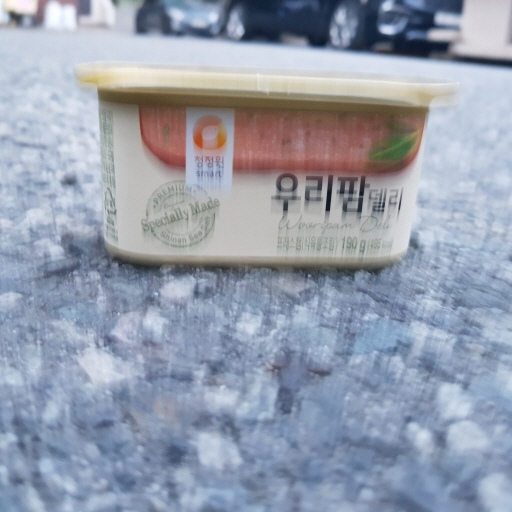Metal_2: (77, 54, 461, 265)
